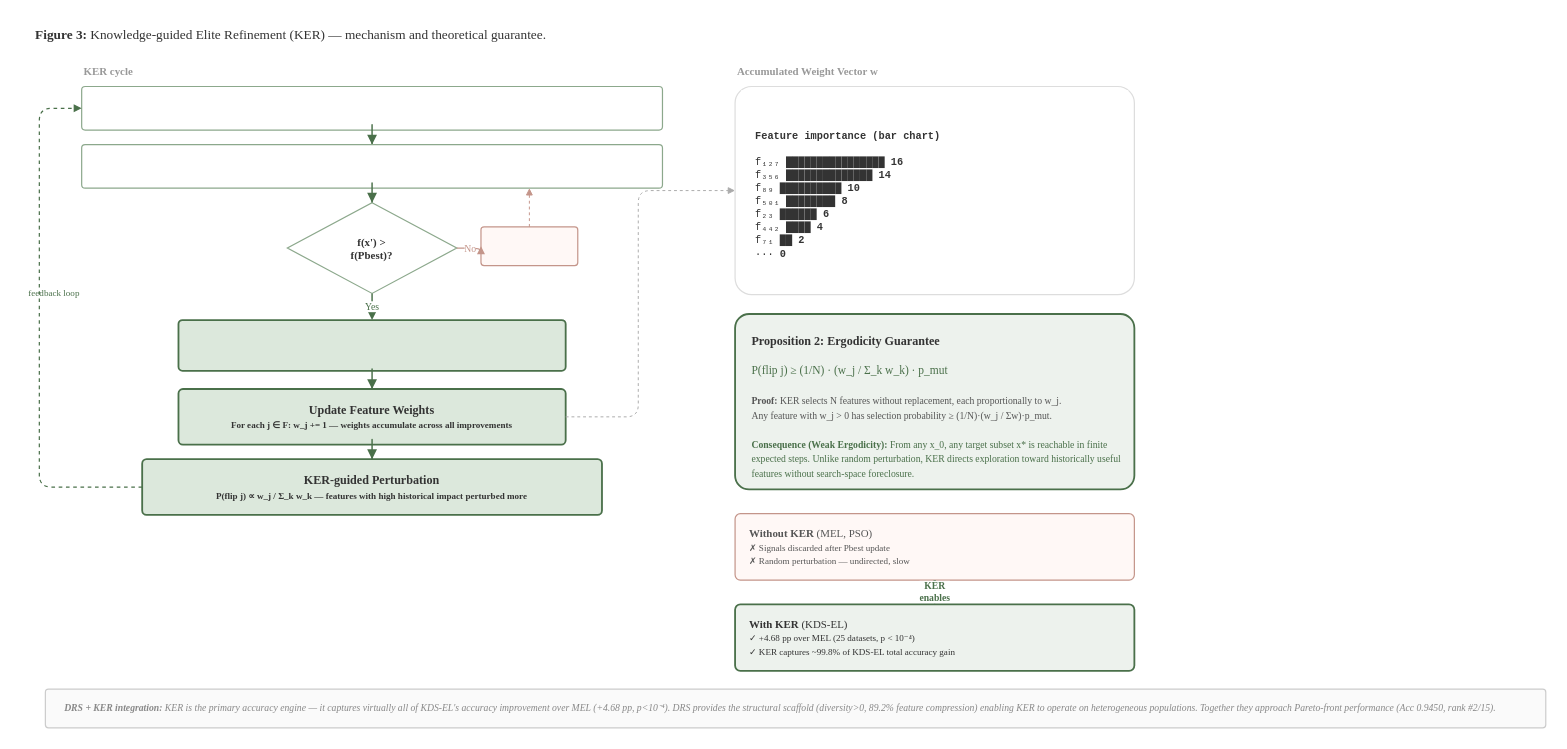
Image size: 1567x749. Some labels were removed from this diagram. The shapes that lost their labels are listed below. From the top down, each one's centre as x and y in pixels, then its label:
At point 371,107: "Current Elite x* Best solution in population".
At point 371,165: "Elite Perturbation Flip subset of features → candidate x'".
At point 529,246: "No Discard x'".
At point 371,345: "Yes: Record Event Update Pbest → x' | Identify flipped feature set F".
